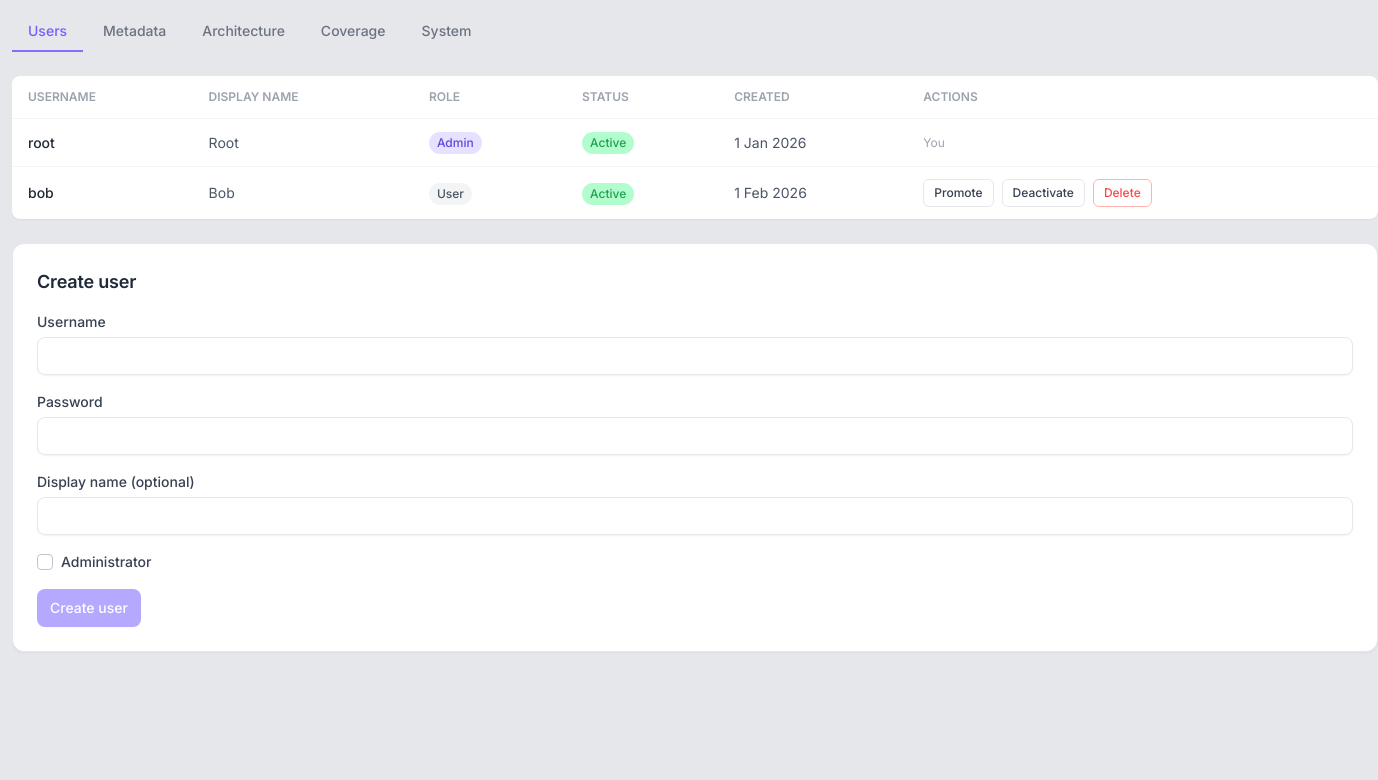
it: AdminView › shows a clear message when coverage is unavailable
The width and height of the screenshot is (1378, 780).
Click the tab with test id "admin-tab-coverage-btn" at (353, 32), box [305,12,402,52]
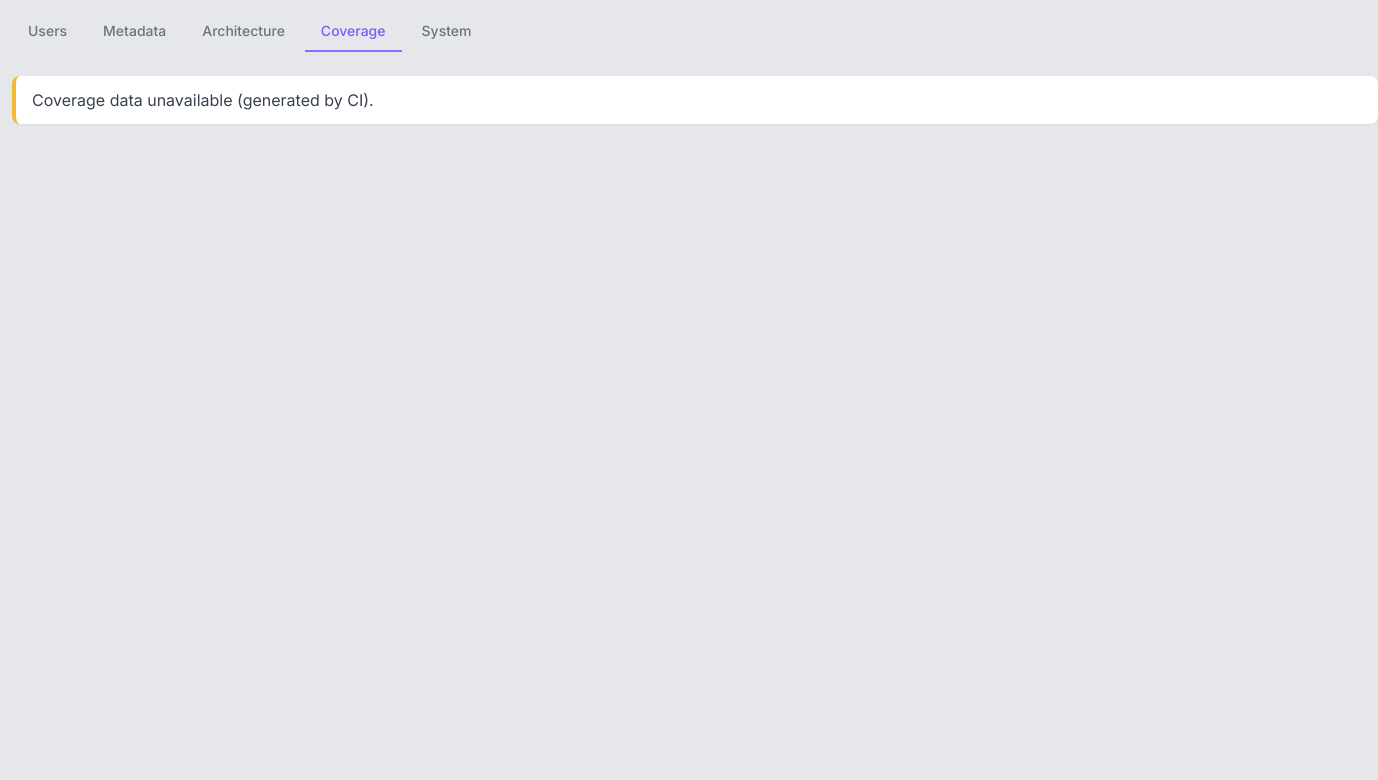
Now the text "Coverage data unavailable (generated by CI)." is shown, box [12,76,1377,124]
Now the text with test id "coverage-unavailable" shows "generated by CI", box [32,90,374,110]
